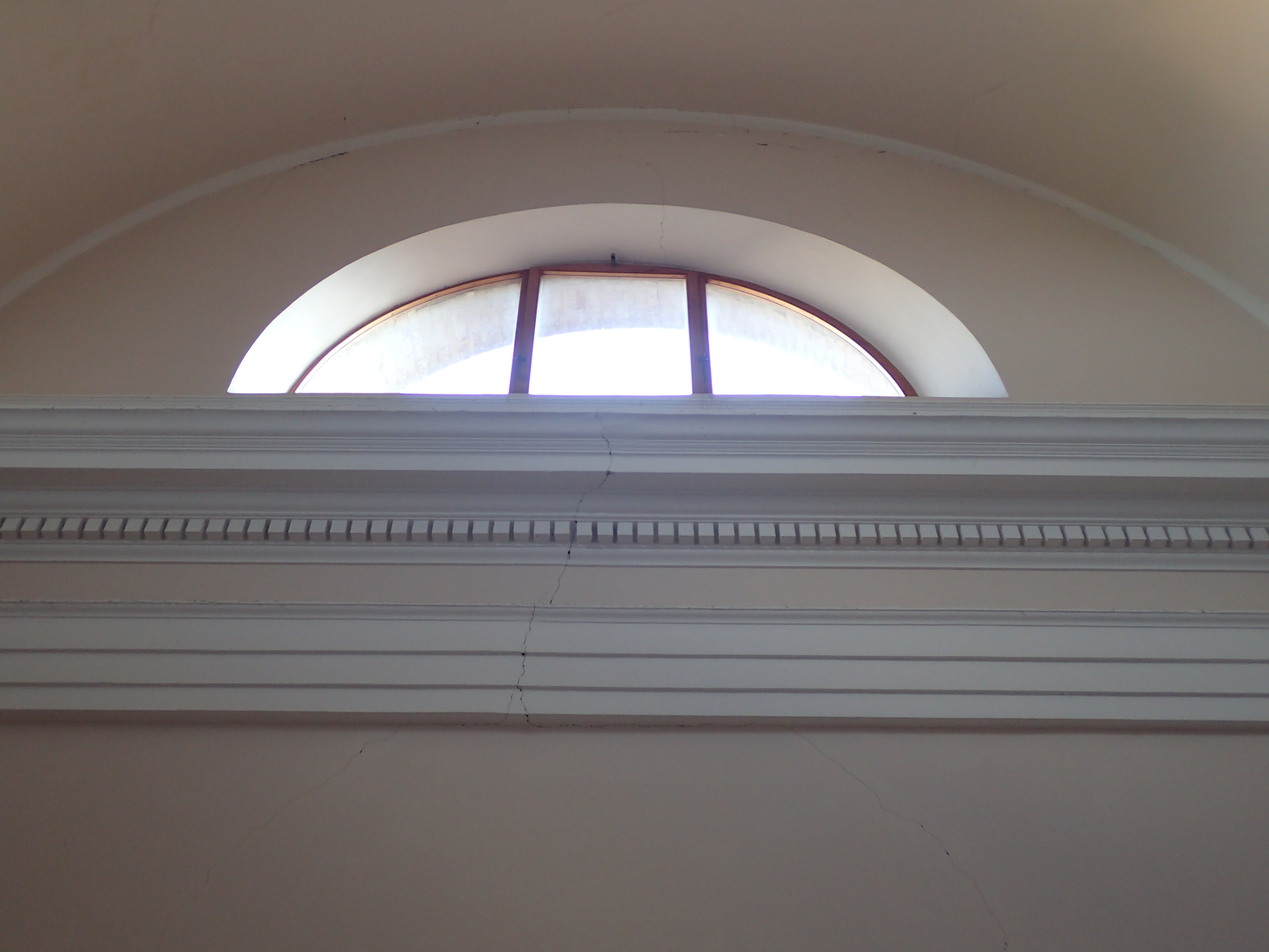Crack: (478, 408, 1032, 938), (584, 115, 798, 277)
